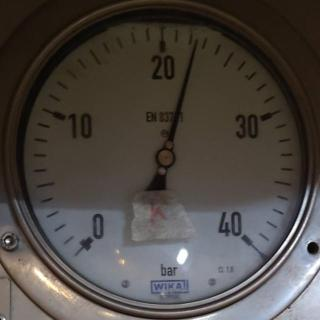gauge: (0, 0, 320, 320), (68, 218, 108, 260), (221, 218, 263, 256), (154, 146, 177, 168), (188, 35, 202, 53)
